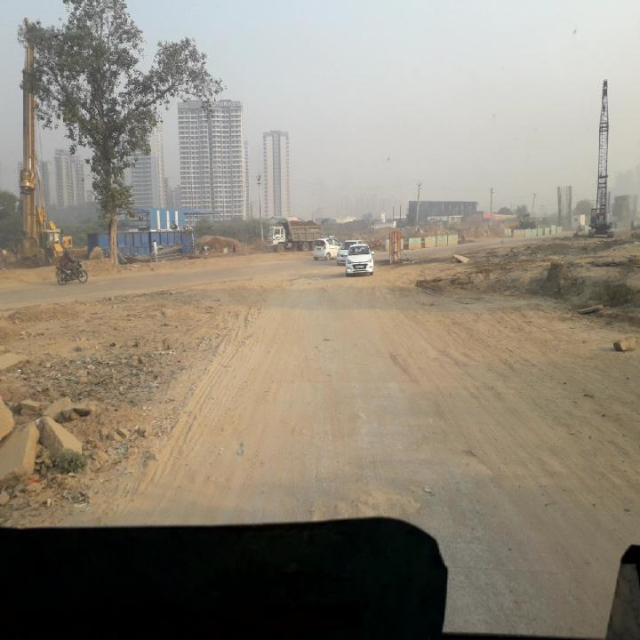Surface Erosion: (197, 233, 640, 640)
